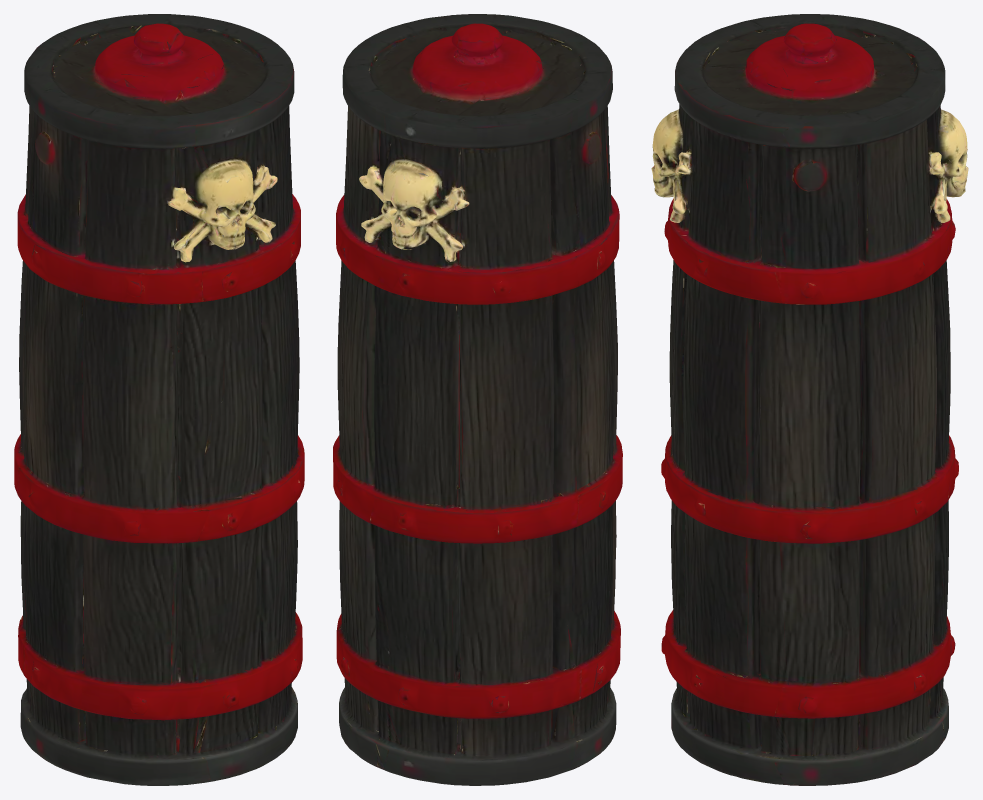
File: powder_barrel.glb
3 views of the same model, side by side, from view 1: azimuth 30°, elevation 25°; view 2: azimuth 150°, elevation 25°; view 3: azimuth 270°, elevation 25° (orthographic).
Visible parts, largest first — view 1: Mesh1.0; view 2: Mesh1.0; view 3: Mesh1.0.
Part boxes in pixels (x1,y1,x2,y2): Mesh1.0: (14, 14, 304, 785); Mesh1.0: (333, 14, 622, 785); Mesh1.0: (651, 14, 968, 785).
Size of the model in its own units: 0.7324 by 1.9 by 0.7805.
Materials: 1 (1 with a texture image).
